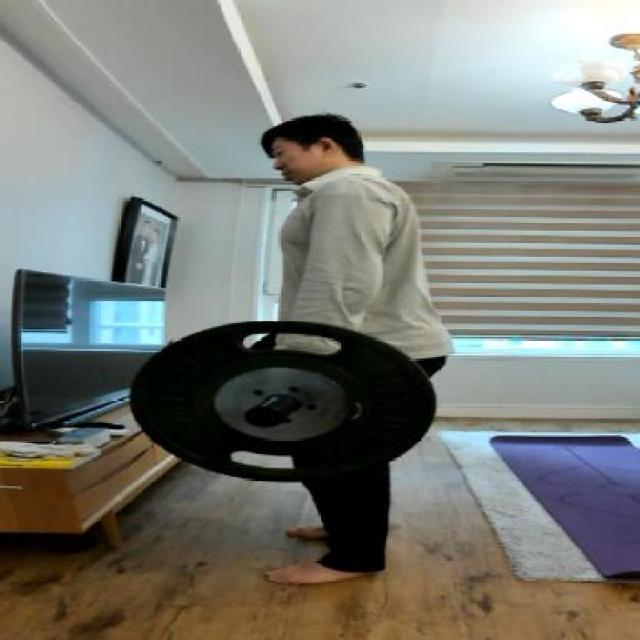barbell: (111, 313, 454, 490)
